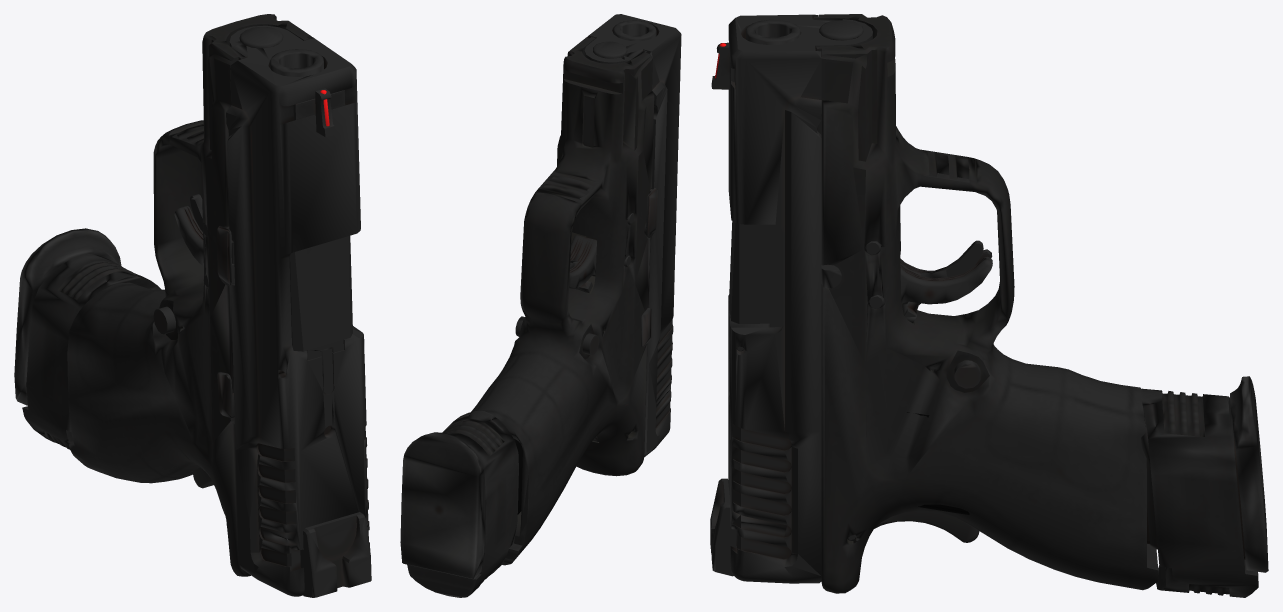
Rendered from XD-Mod-2.glb.
3 views of the same model, side by side, from view 1: azimuth 30°, elevation 25°; view 2: azimuth 150°, elevation 25°; view 3: azimuth 270°, elevation 25° (orthographic). The views are drawn at different scales.
Visible parts, largest first — view 1: Object_95; view 2: Object_95; view 3: Object_95.
Boxes of the visible parts, bbox=[...] form: Object_95: bbox=[14, 14, 371, 597]; Object_95: bbox=[400, 14, 681, 597]; Object_95: bbox=[710, 14, 1268, 597].
Size of what is drawn, in the model's own units: 0.4874 by 2.24 by 2.02.
1 material, 1 textured.
